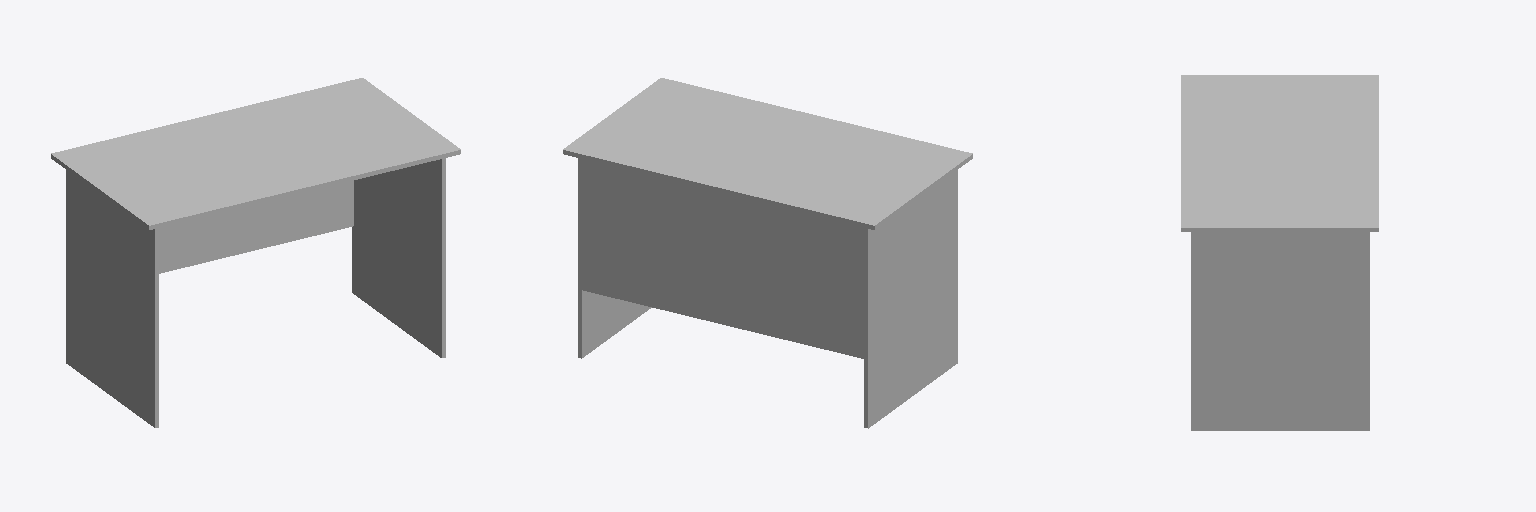
The model's file is Милан-5.obj.
3 views of the same model, side by side, from view 1: azimuth 30°, elevation 25°; view 2: azimuth 150°, elevation 25°; view 3: azimuth 270°, elevation 25° (orthographic).
Visible parts, largest first — view 1: Cube.003_Cube.004; view 2: Cube.003_Cube.004; view 3: Cube.003_Cube.004.
Boxes of the visible parts, box(x1,y1,x2,y2) form: Cube.003_Cube.004: box(51, 78, 460, 427); Cube.003_Cube.004: box(563, 78, 972, 428); Cube.003_Cube.004: box(1181, 75, 1378, 430).
Bounding box in the file's own units: 2.2 × 1.4 × 1.2.